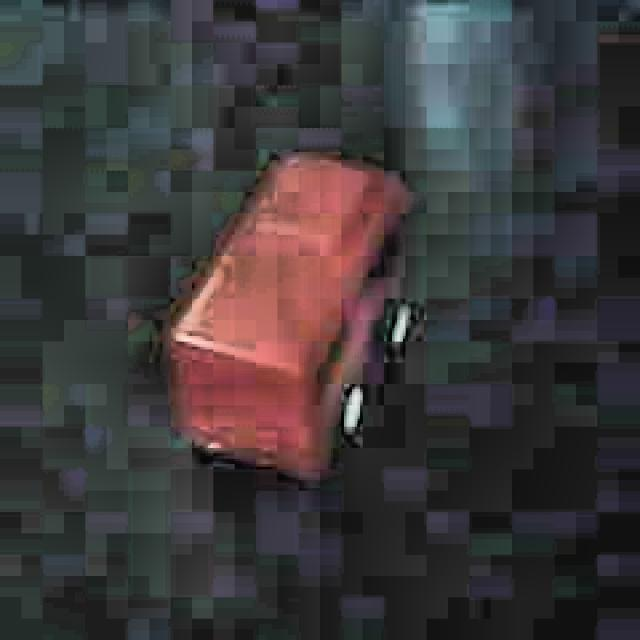bus: (158, 147, 422, 490)
